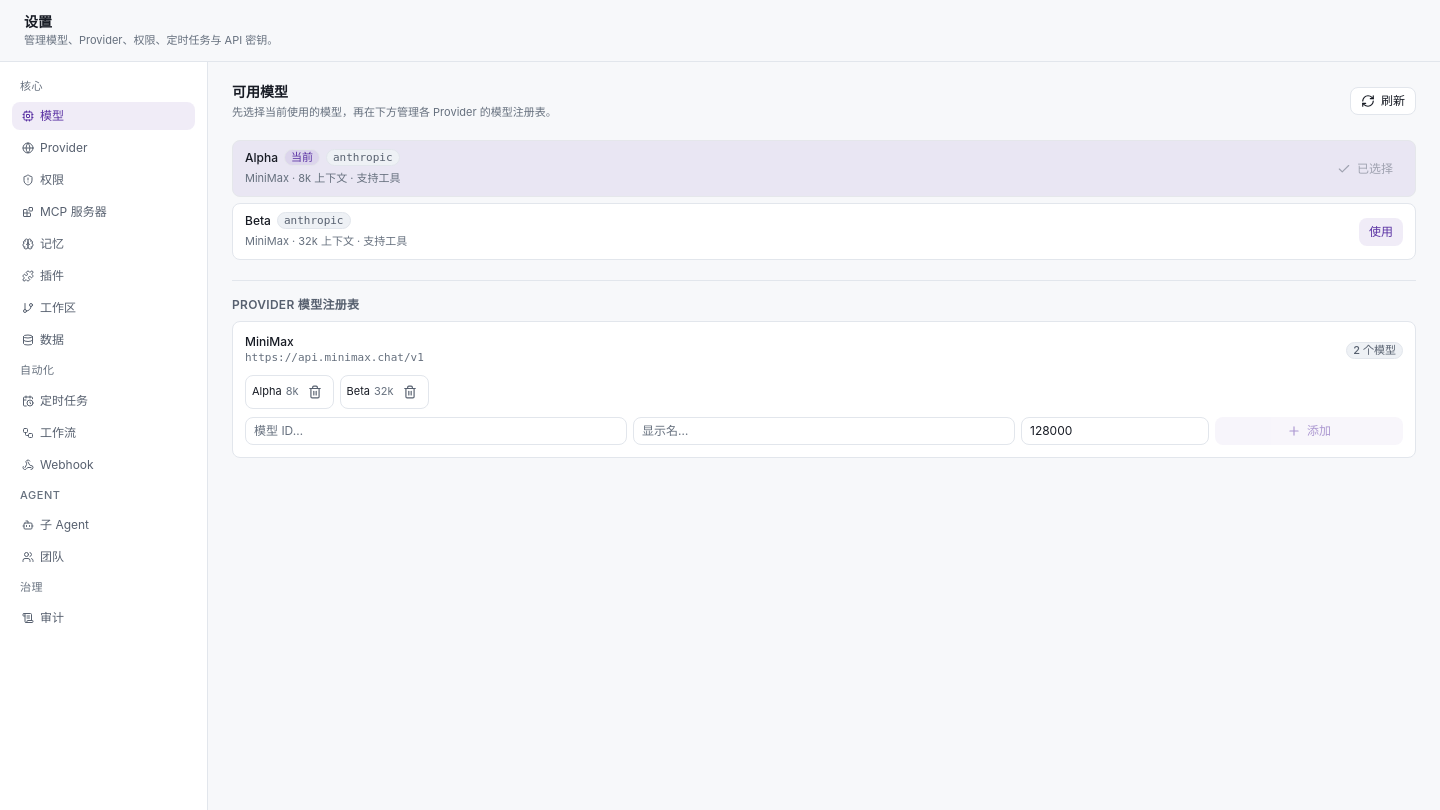
Test: SettingsPage › adds a provider model from the Models tab and persists it
This screenshot has width=1440, height=810.
Expected: the element with test id "settings-model-provider-builtin-minimax" is shown, [232,321,1416,458]
Type "m3" into the field with test id "settings-model-add-id-builtin-minimax" at (436, 430), box [245,416,627,444]
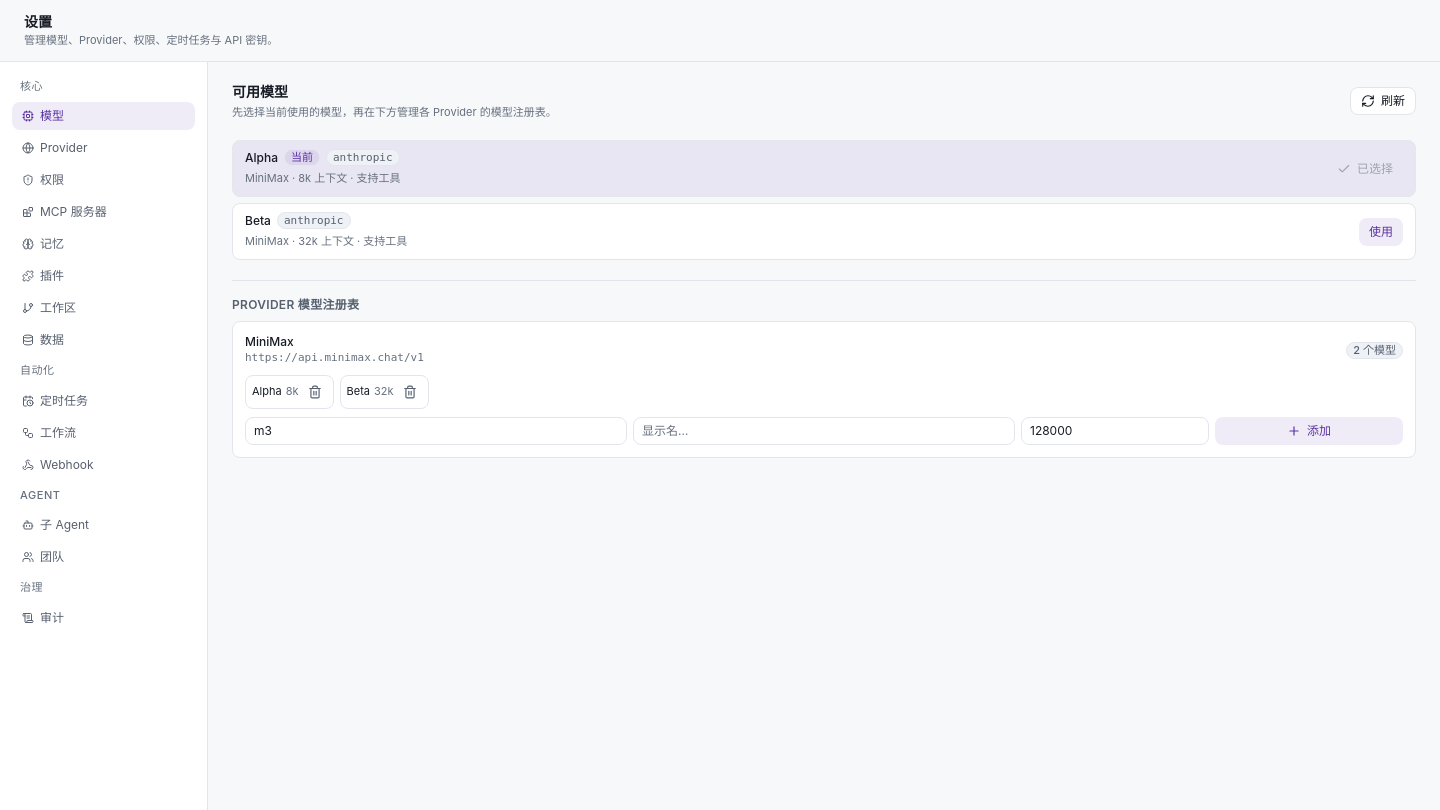
Type "Gamma" into the field with test id "settings-model-add-name-builtin-minimax" at (824, 430), box [633,416,1015,444]
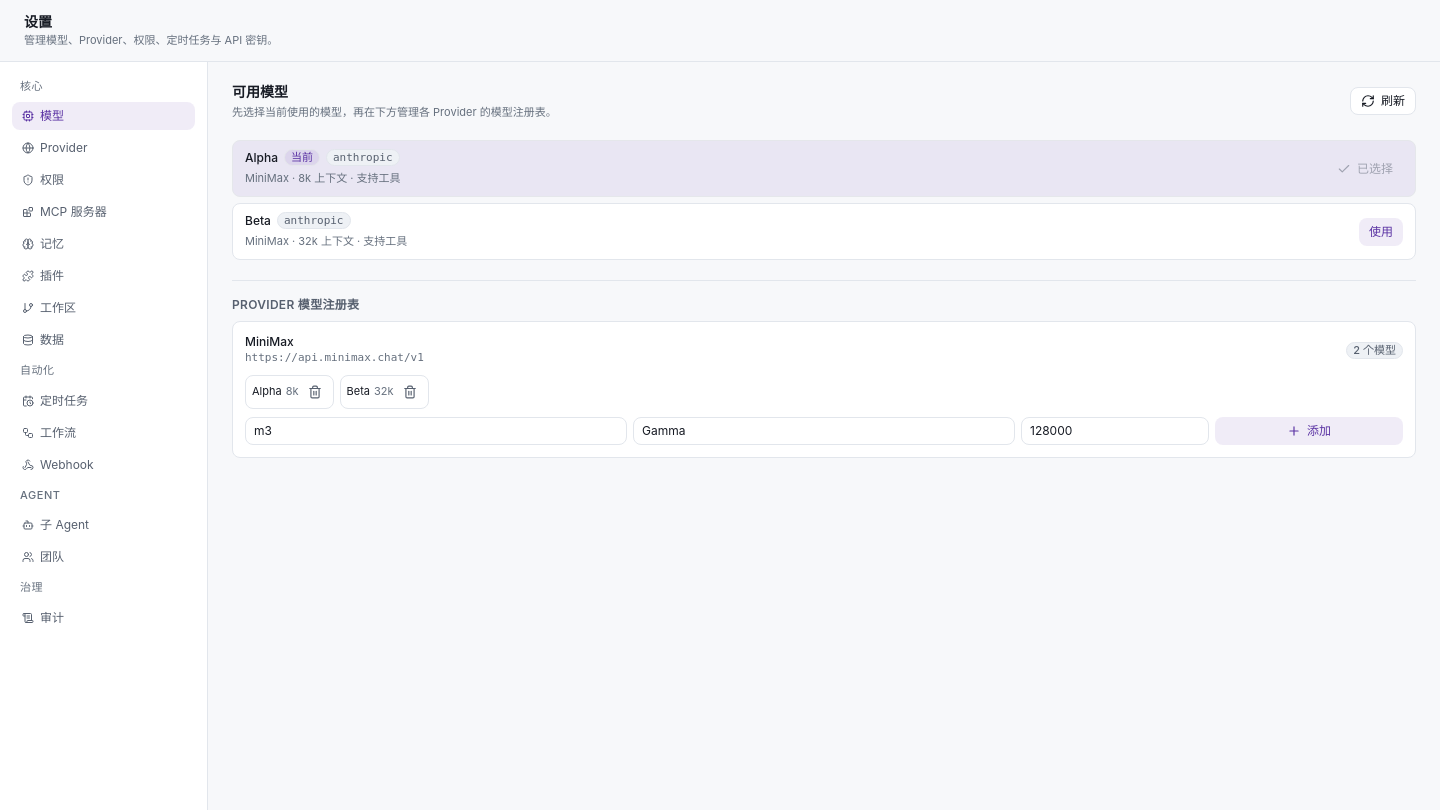
Replace the text in the number field with test id "settings-model-add-ctx-builtin-minimax" with "64000" at (1115, 430), box [1021,416,1209,444]
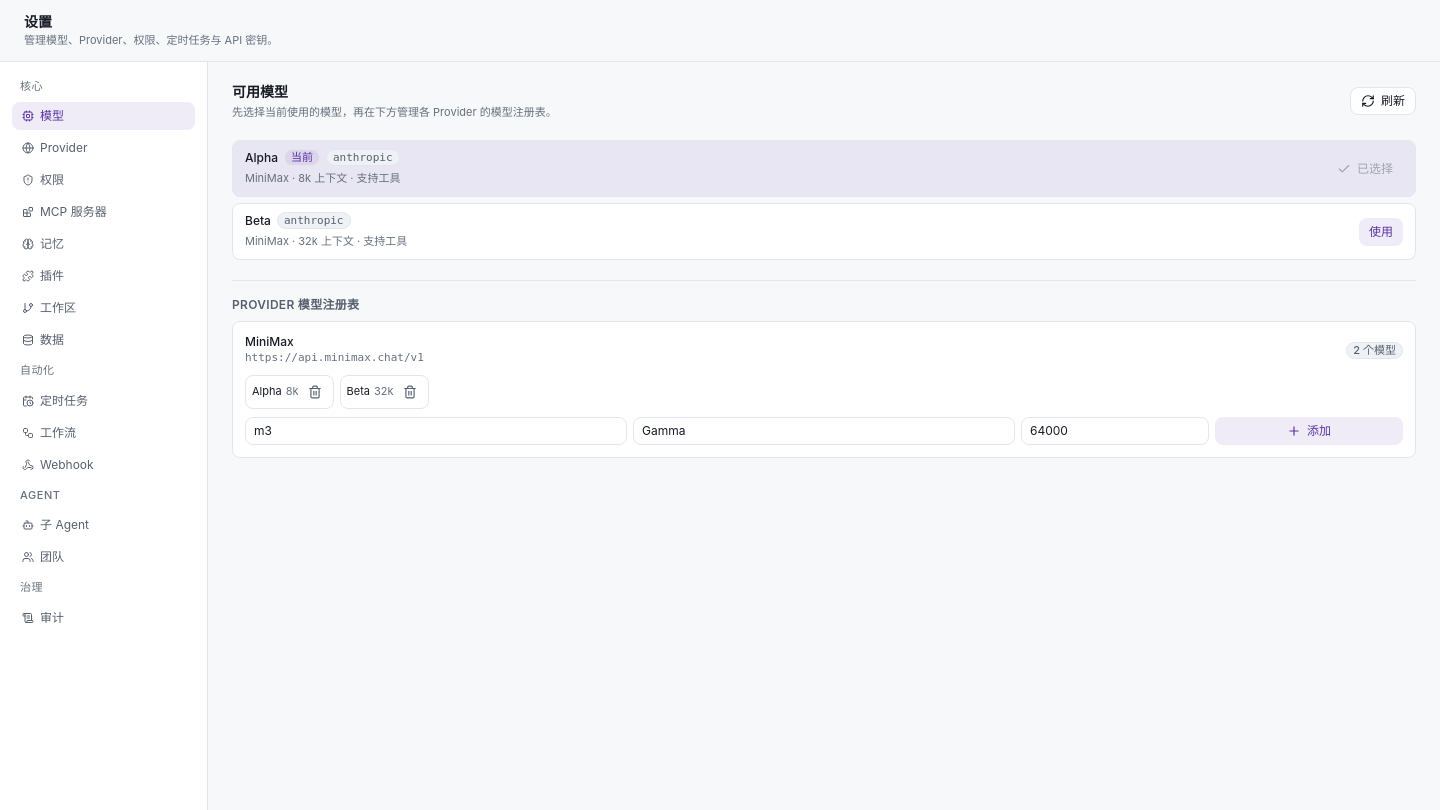
Click the button with test id "settings-model-add-submit-builtin-minimax" at (1309, 430), box [1215,416,1403,444]
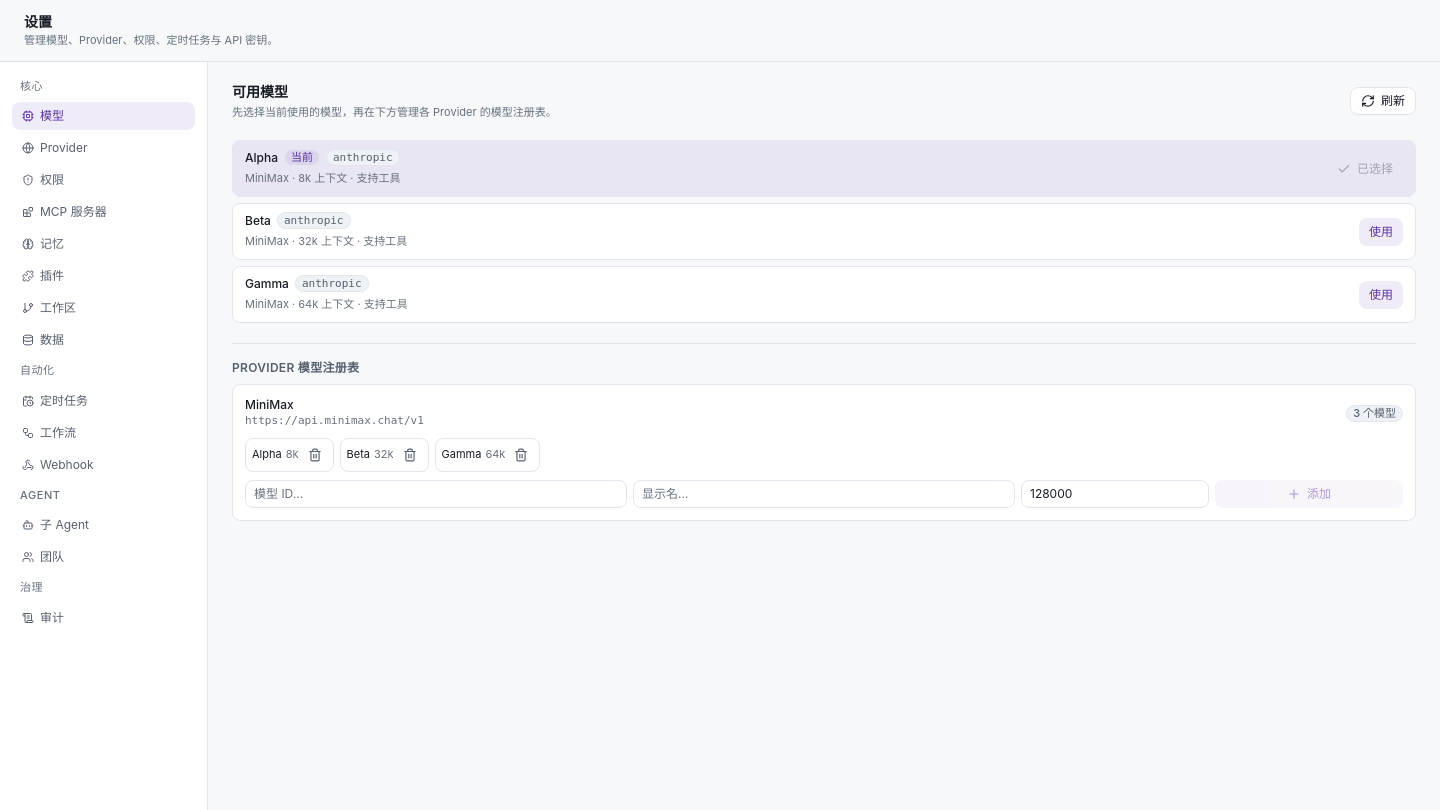
Now the list item with test id "settings-model-m3" is shown, box [232,266,1416,323]
